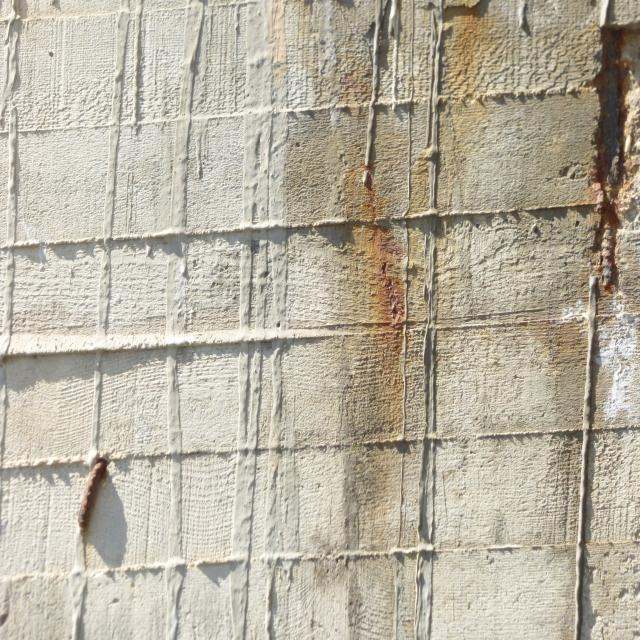corrosion: (263, 8, 491, 570), (535, 14, 640, 442), (59, 443, 130, 576)
